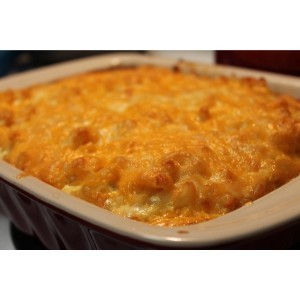cheese_brain food: (83, 97, 239, 183)
